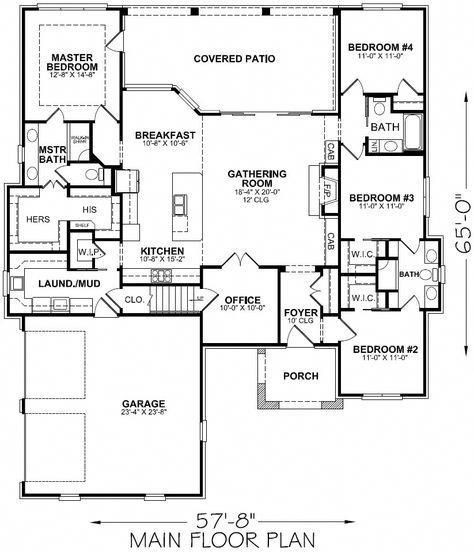door: (218, 250, 264, 271), (287, 317, 316, 350), (341, 139, 374, 166), (398, 236, 431, 261), (340, 72, 366, 103), (394, 70, 425, 96), (103, 24, 128, 53), (40, 100, 66, 126), (88, 103, 119, 123), (400, 289, 428, 311), (40, 176, 73, 194), (201, 287, 220, 314), (340, 317, 359, 344), (53, 162, 72, 185), (94, 235, 109, 262)
room: (330, 1, 434, 405), (123, 84, 323, 269), (26, 317, 199, 497), (123, 10, 342, 117), (338, 141, 442, 311), (6, 183, 124, 314), (13, 5, 125, 126), (198, 261, 342, 353), (339, 5, 423, 153), (25, 4, 120, 123), (8, 186, 120, 255), (7, 248, 120, 313), (201, 264, 285, 350), (24, 118, 125, 187), (199, 265, 278, 348), (281, 266, 342, 347), (122, 286, 219, 316)
wall: (15, 3, 30, 144), (331, 14, 344, 122), (122, 277, 198, 291), (198, 318, 208, 415), (420, 312, 431, 394), (120, 311, 199, 322), (333, 350, 342, 400)
window: (125, 1, 333, 32), (417, 174, 439, 218), (39, 3, 112, 15), (360, 386, 403, 406), (361, 2, 408, 15), (9, 143, 30, 167), (57, 489, 79, 507), (145, 489, 171, 504), (2, 270, 14, 300), (194, 419, 209, 441), (440, 264, 445, 286)
